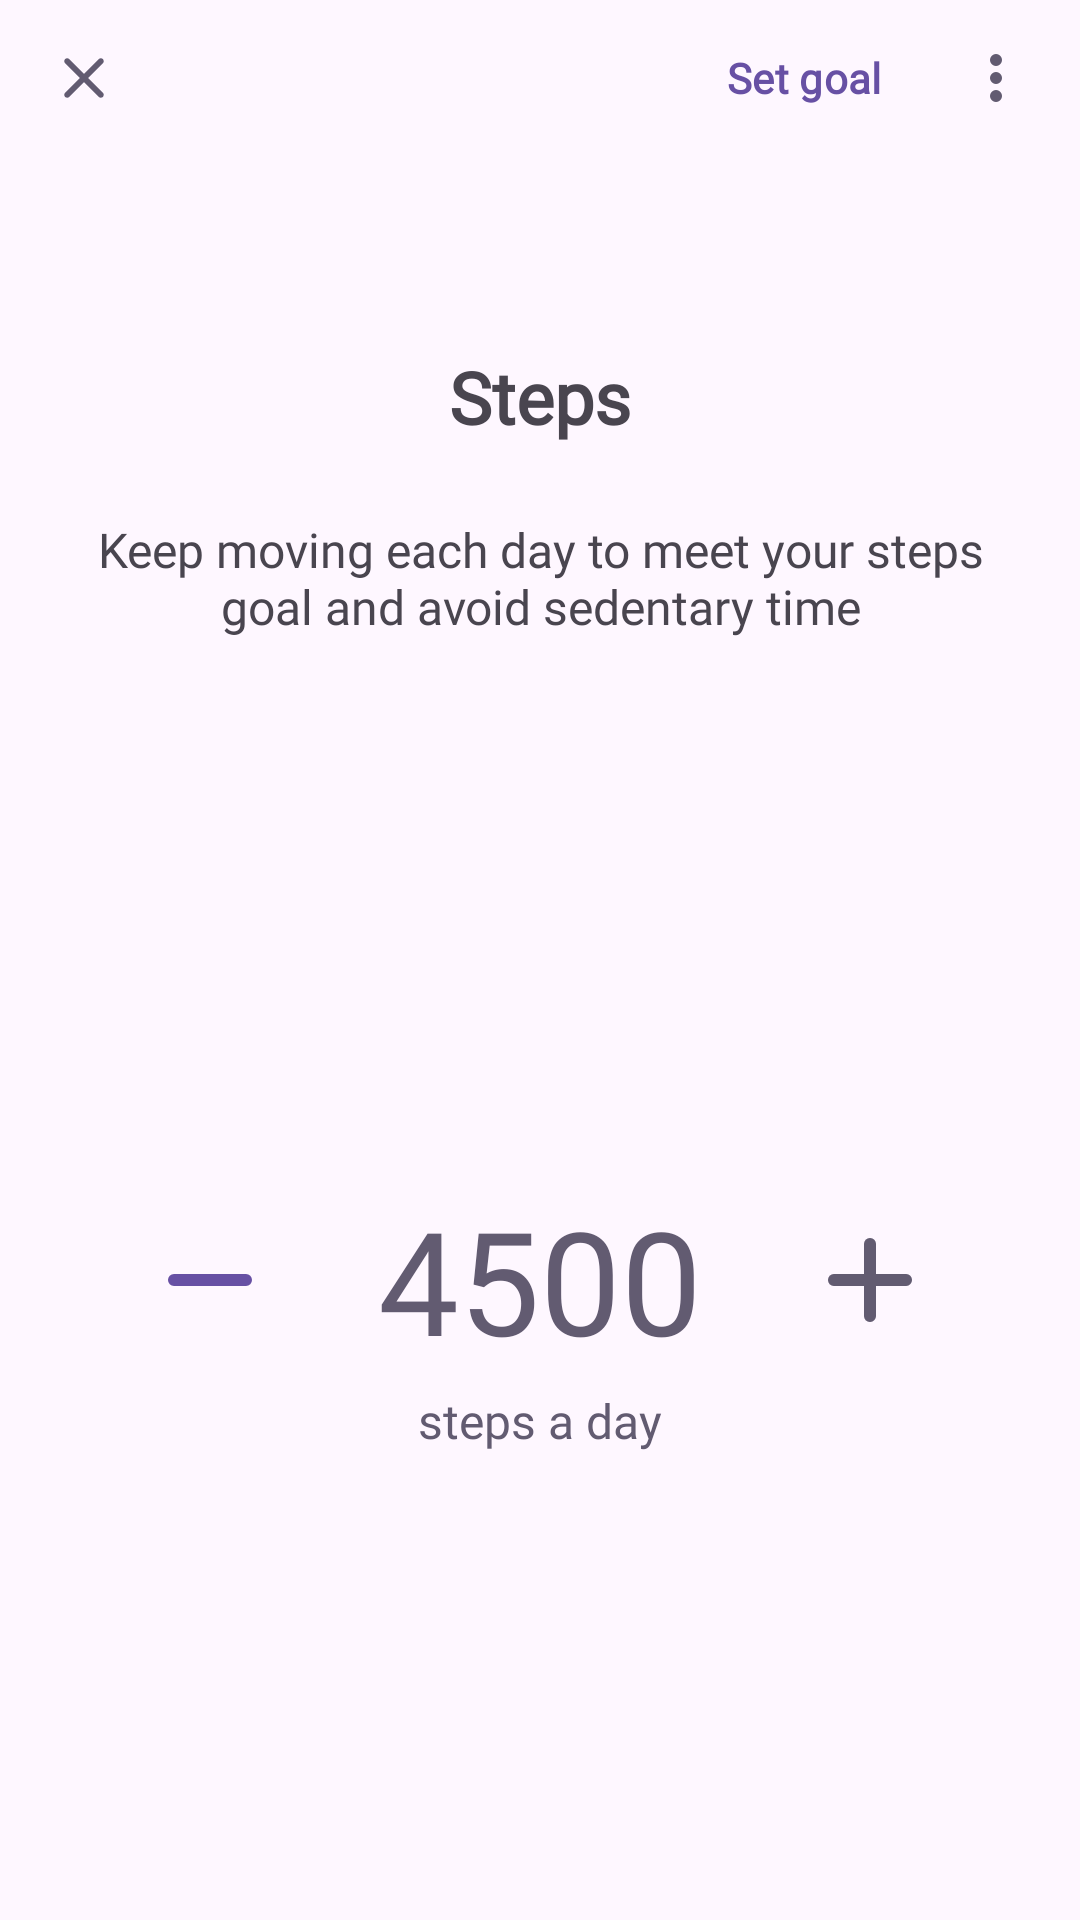

Where icons sit on this 1080 x 1920 app screen, as (x1, y1, x2, y2):
add: (828, 1238, 912, 1322)
close: (64, 58, 104, 98)
more vert: (990, 54, 1002, 102)
